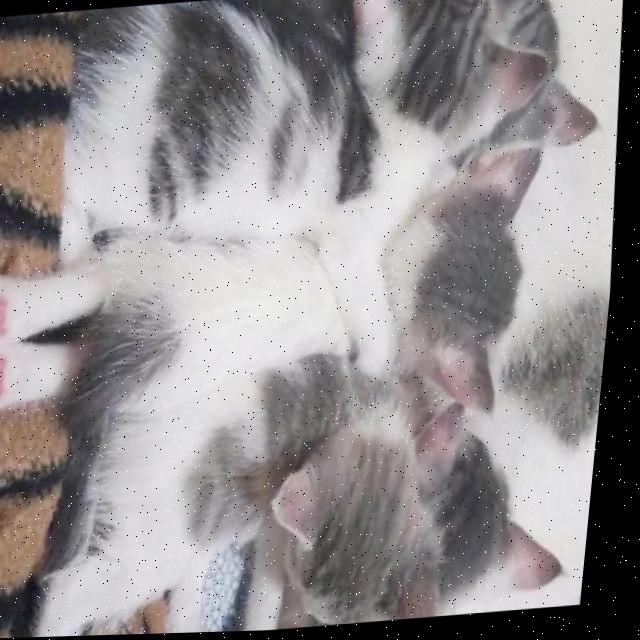Cats: (18, 0, 453, 253), (0, 197, 378, 437), (351, 101, 570, 463), (246, 380, 477, 633), (298, 0, 557, 170)
